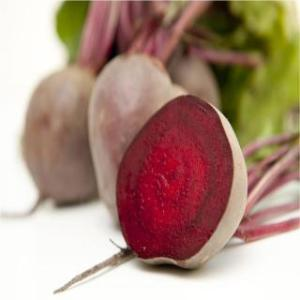beet: (118, 94, 249, 270), (88, 58, 162, 218), (21, 64, 99, 200)
